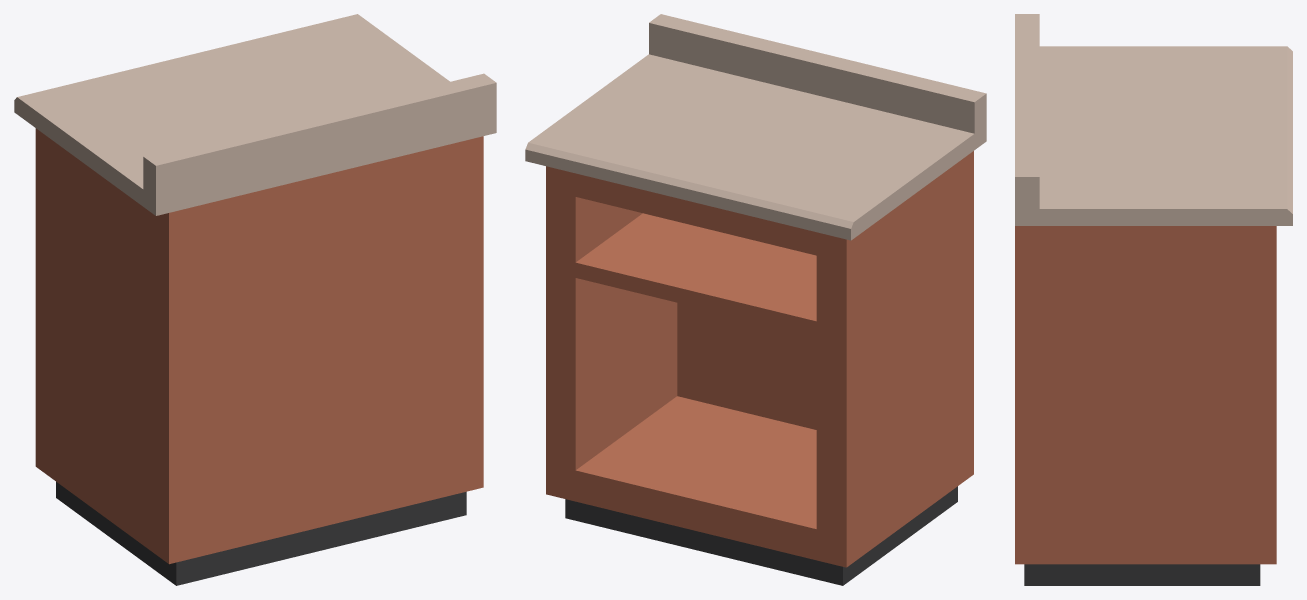
The model's file is Dresser Small No Drawers.fbx.
The picture shows the model from 3 angles, left to right: view 1: azimuth 30°, elevation 25°; view 2: azimuth 150°, elevation 25°; view 3: azimuth 270°, elevation 25°; orthographic projection. The views are drawn at different scales.
Parts seen in each view (by area): view 1: Dresser Small Parts 1.003; view 2: Dresser Small Parts 1.003; view 3: Dresser Small Parts 1.003.
Boxes of the visible parts, x1,y1,x2,y2 form: Dresser Small Parts 1.003: (14,14,496,585); Dresser Small Parts 1.003: (525,14,986,585); Dresser Small Parts 1.003: (1015,14,1292,585).
Size of the model in its own units: 488 by 589 by 352.
